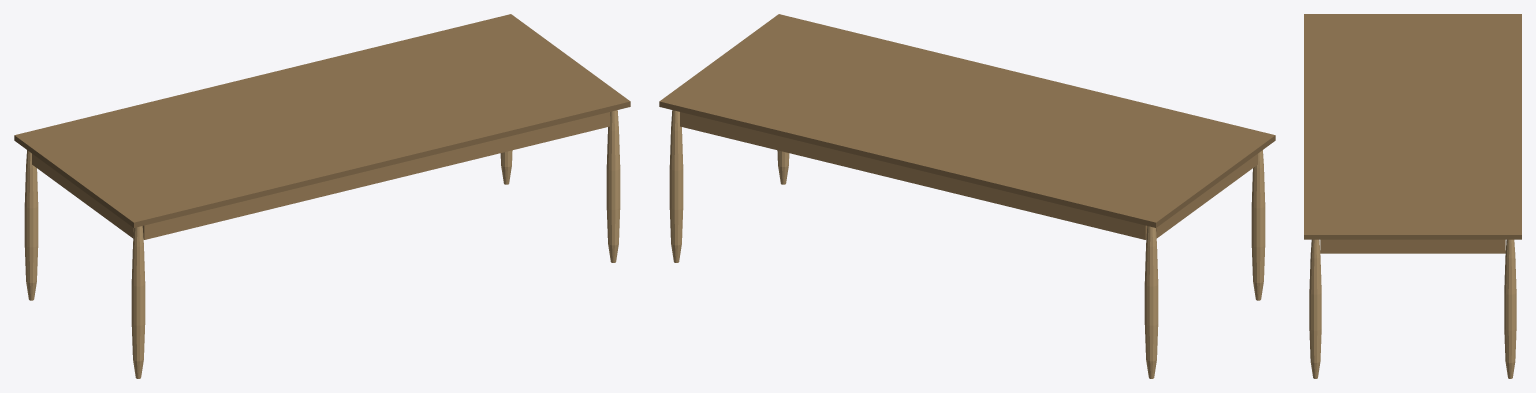
The model's file is SAB-DTB-8-seat.glb.
The picture shows the model from 3 angles, left to right: view 1: azimuth 30°, elevation 25°; view 2: azimuth 150°, elevation 25°; view 3: azimuth 270°, elevation 25°; orthographic projection. The views are drawn at different scales.
Visible parts, largest first — view 1: top:pbr, apron-f:pbr, leg-fl:pbr, leg-fr:pbr, leg-bl:pbr, apron-l:pbr; view 2: top:pbr, apron-b:pbr, leg-bl:pbr, leg-br:pbr, leg-fl:pbr, apron-l:pbr; view 3: top:pbr, apron-r:pbr, leg-fr:pbr, leg-br:pbr.
Boxes of the visible parts, <box> form: top:pbr: <box>14,14,630,227</box>; apron-f:pbr: <box>142,112,609,239</box>; leg-fl:pbr: <box>131,226,145,378</box>; leg-fr:pbr: <box>606,110,620,262</box>; leg-bl:pbr: <box>24,150,38,300</box>; apron-l:pbr: <box>32,154,133,238</box>; top:pbr: <box>659,14,1275,227</box>; apron-b:pbr: <box>680,112,1147,239</box>; leg-bl:pbr: <box>1144,226,1158,378</box>; leg-br:pbr: <box>669,110,683,262</box>; leg-fl:pbr: <box>1251,150,1265,300</box>; apron-l:pbr: <box>1156,154,1257,238</box>; top:pbr: <box>1304,14,1521,239</box>; apron-r:pbr: <box>1320,239,1505,253</box>; leg-fr:pbr: <box>1309,239,1321,378</box>; leg-br:pbr: <box>1504,239,1516,378</box>.
Size of the model in its own units: 2.4 by 0.75 by 1.
